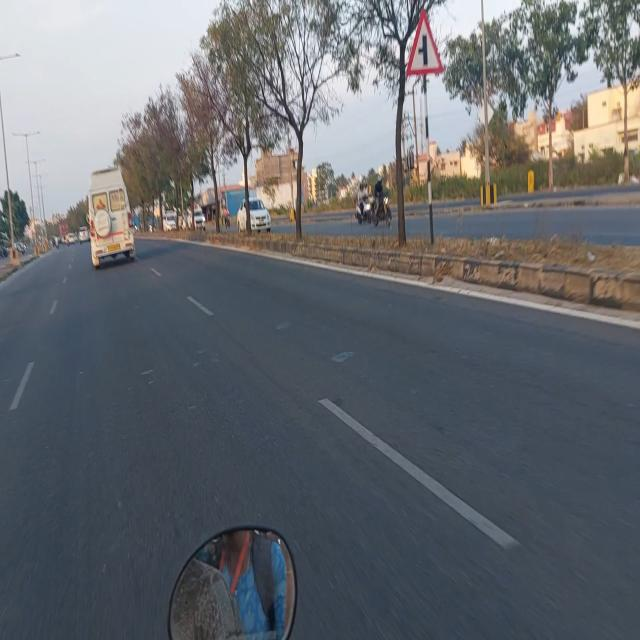bien_cam: (408, 6, 441, 83)
